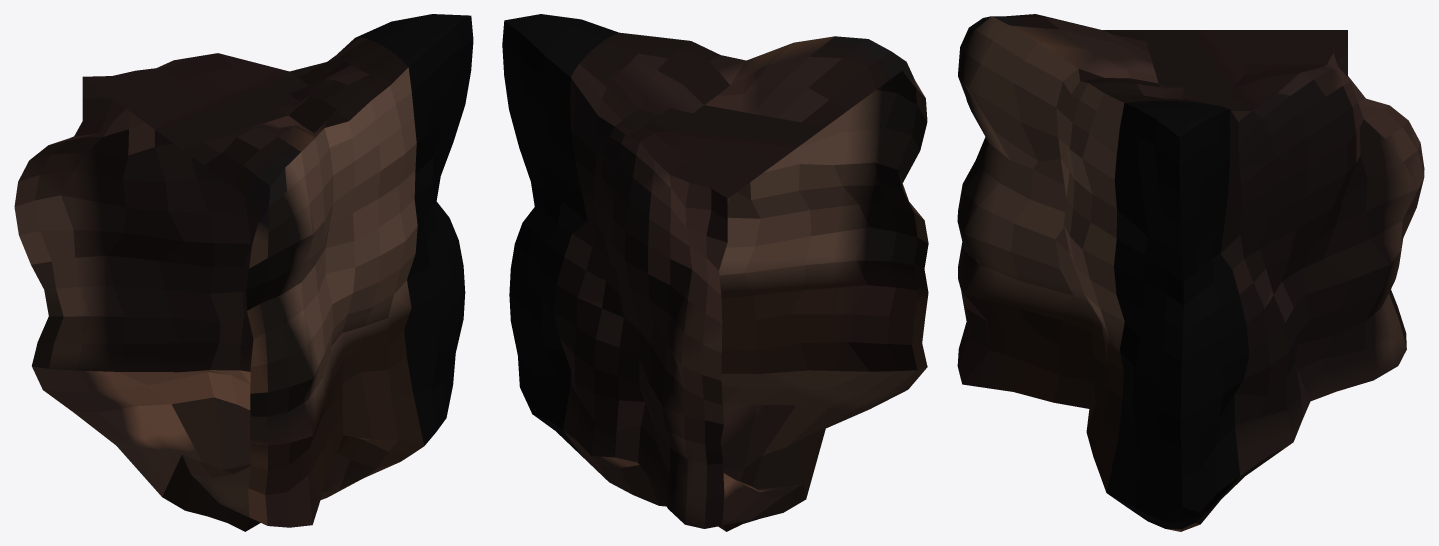
Rendered from Heart_Chamber.fbx.
The picture shows the model from 3 angles, left to right: view 1: azimuth 30°, elevation 25°; view 2: azimuth 150°, elevation 25°; view 3: azimuth 270°, elevation 25°; orthographic projection. The views are drawn at different scales.
Visible parts, largest first — view 1: Cube.010; view 2: Cube.010; view 3: Cube.010.
Part boxes in pixels (bbox=[...]): Cube.010: bbox=[14, 14, 473, 531]; Cube.010: bbox=[502, 14, 928, 531]; Cube.010: bbox=[957, 14, 1424, 531].
Size of the model in its own units: 6660 by 8698 by 7642.
